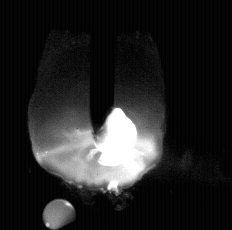arame: (90, 0, 115, 143)
poca: (28, 0, 164, 230)
